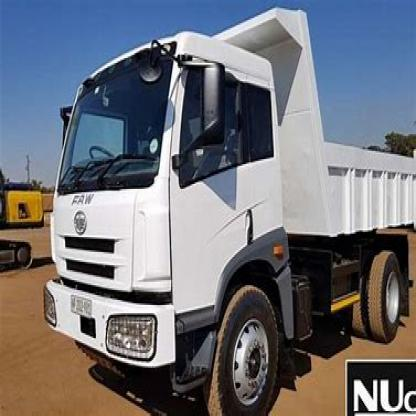dump_truck: (35, 3, 415, 413)
